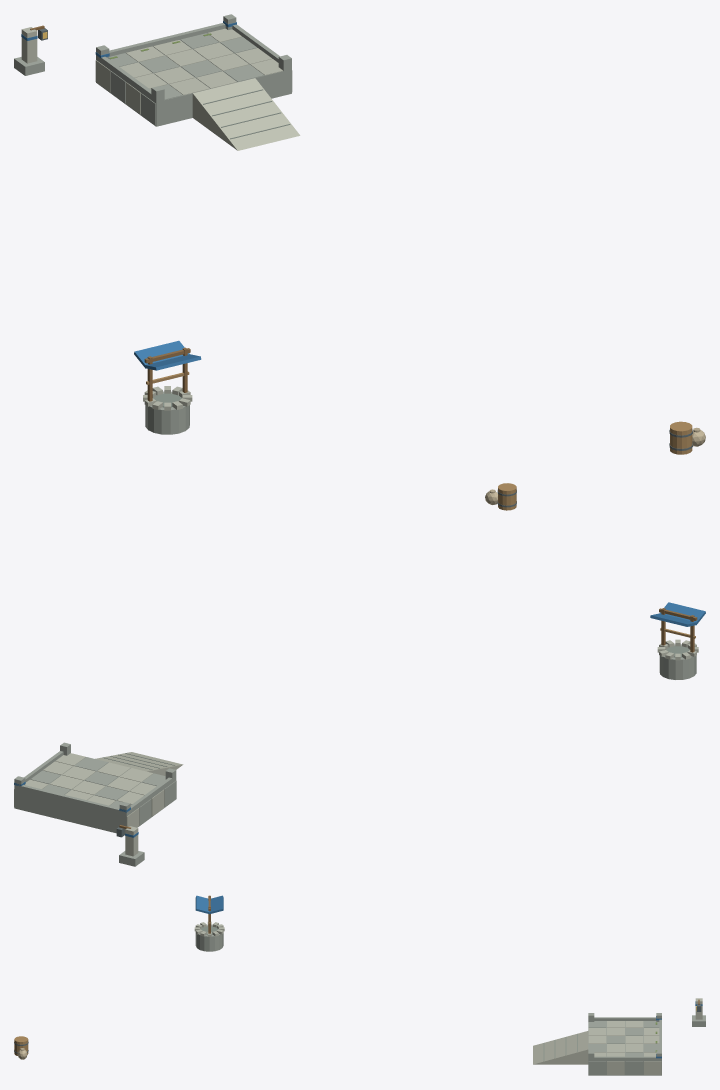
The model's file is overlook-kit.glb.
The picture shows the model from 3 angles, top to bottom: view 1: azimuth 30°, elevation 25°; view 2: azimuth 150°, elevation 25°; view 3: azimuth 270°, elevation 25°; orthographic projection. The views are drawn at different scales.
Parts seen in each view (by area): view 1: overlook-lookout-stone-top, overlook-lookout-stone, overlook-banner-blue, overlook-cut-planks, overlook-lookout-wood; view 2: overlook-lookout-stone, overlook-lookout-stone-top, overlook-banner-blue; view 3: overlook-lookout-stone-top, overlook-lookout-stone, overlook-banner-blue.
Part boxes in pixels (x1,y1,x2,y2): overlook-lookout-stone-top: [21, 27, 300, 410]; overlook-lookout-stone: [14, 14, 292, 434]; overlook-banner-blue: [21, 21, 236, 370]; overlook-cut-planks: [146, 371, 692, 454]; overlook-lookout-wood: [30, 25, 190, 401]; overlook-lookout-stone: [14, 644, 696, 866]; overlook-lookout-stone-top: [14, 639, 698, 856]; overlook-banner-blue: [14, 602, 705, 837]; overlook-lookout-stone-top: [194, 921, 702, 1074]; overlook-lookout-stone: [195, 925, 705, 1075]; overlook-banner-blue: [195, 895, 702, 1058].
Bounding box in the file's own units: 17.48 × 2.69 × 37.47.
